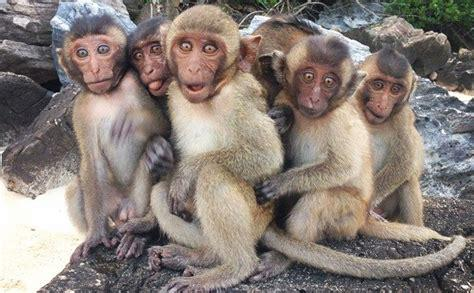monkey: (151, 6, 466, 293), (249, 39, 450, 281), (56, 17, 170, 260), (356, 48, 423, 224), (127, 18, 172, 98)
